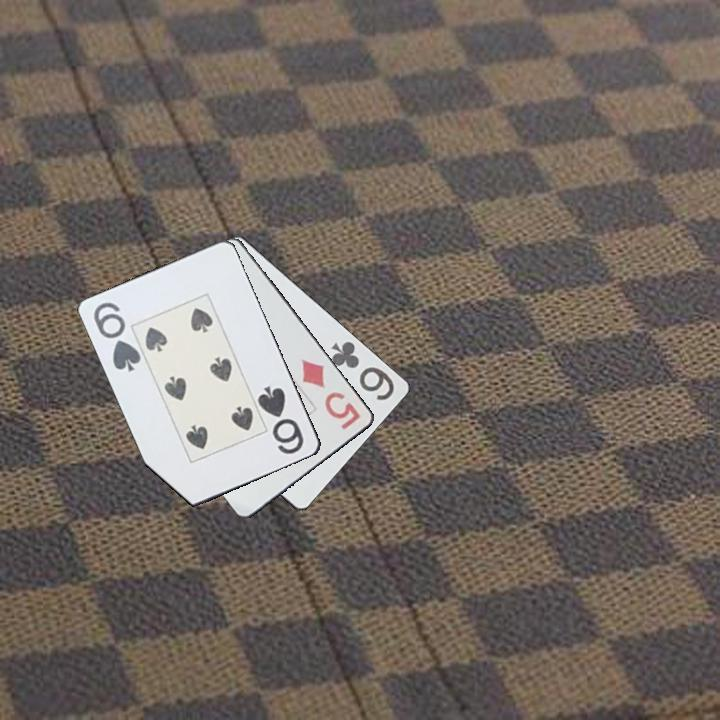5d: (297, 356, 364, 432)
6c: (328, 338, 398, 404)
6s: (90, 299, 144, 376), (255, 382, 307, 457)
